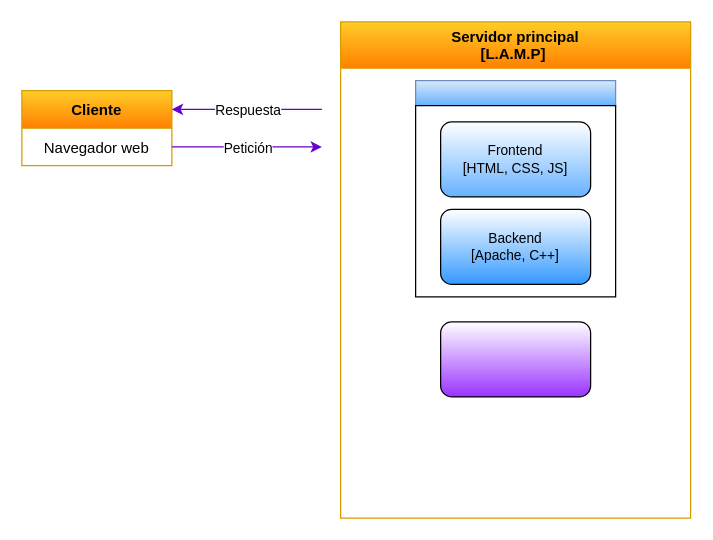
Some shapes in this 713 by 540 pixel diagram are drawn without their labels. The centre of each missing label's shape, as x and y in pixels:
Base de datos [php, mySQL]: the point at 515,359
Servidor web / host: the point at 515,92
